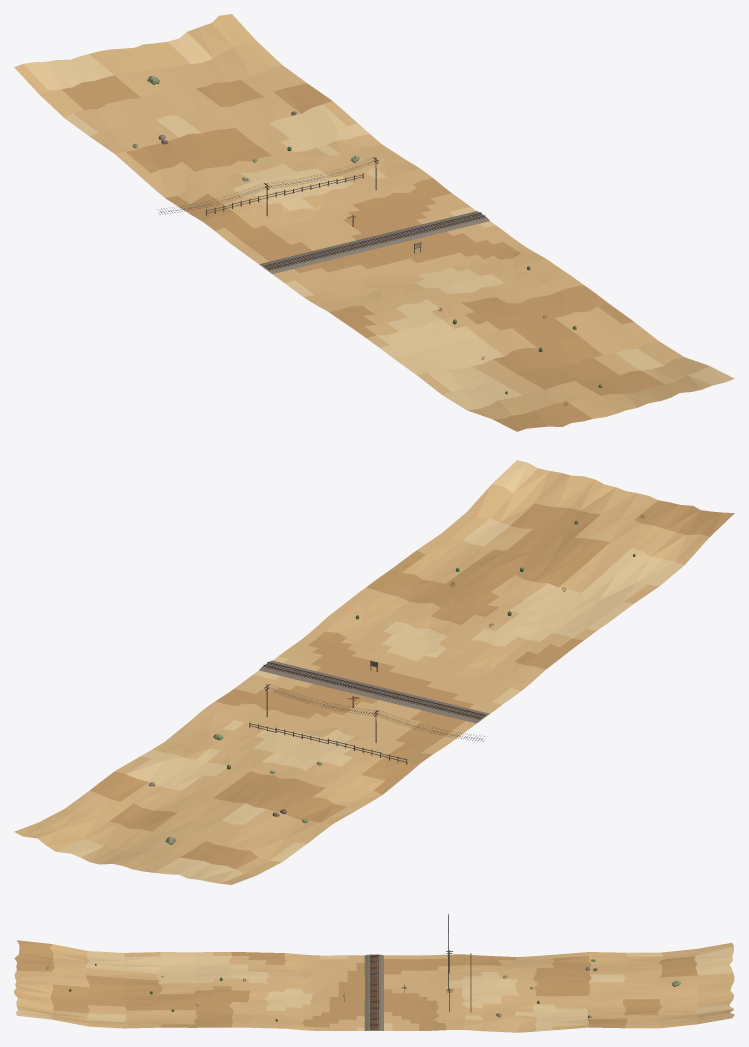
The model's file is SM_FG_Chunk_Telegraph_Fence_A.fbx.
3 views of the same model, one above another, from view 1: azimuth 30°, elevation 25°; view 2: azimuth 150°, elevation 25°; view 3: azimuth 270°, elevation 25° (orthographic). The views are drawn at different scales.
Visible parts, largest first — view 1: FG_Chunk_Telegraph_Fence_A_Track; view 2: FG_Chunk_Telegraph_Fence_A_Track; view 3: FG_Chunk_Telegraph_Fence_A_Track.
Boxes of the visible parts, x1,y1,x2,y2 form: FG_Chunk_Telegraph_Fence_A_Track: (14,14,734,431); FG_Chunk_Telegraph_Fence_A_Track: (14,460,734,884); FG_Chunk_Telegraph_Fence_A_Track: (14,913,734,1032).
Size of the model in its own units: 6250 by 803 by 20154.
